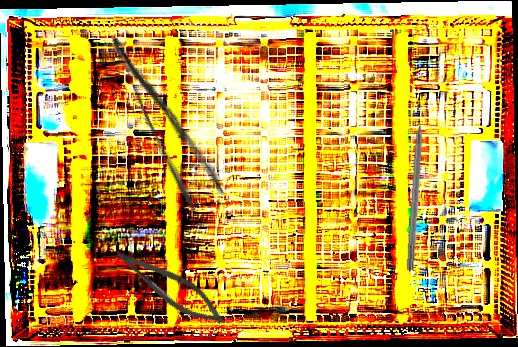Dressing Forceps: (107, 21, 228, 213)
Hook Surgical: (405, 105, 428, 271)
Micro Scissor: (105, 241, 231, 333)
